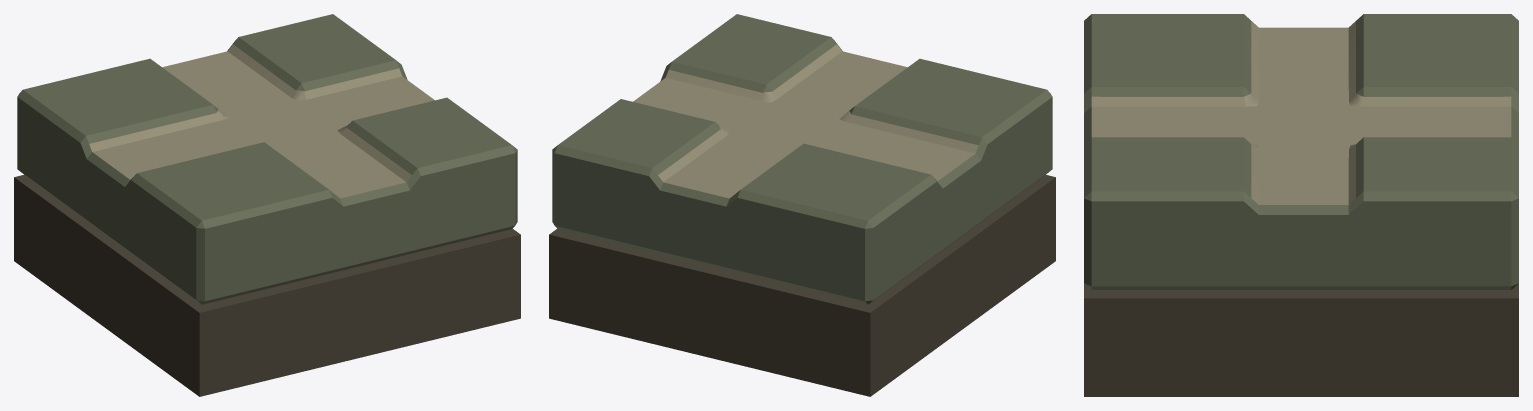
File: Path 2 detialed.fbx
The picture shows the model from 3 angles, left to right: view 1: azimuth 30°, elevation 25°; view 2: azimuth 150°, elevation 25°; view 3: azimuth 270°, elevation 25°; orthographic projection. The views are drawn at different scales.
Visible parts, largest first — view 1: polySurface3798; view 2: polySurface3798; view 3: polySurface3798.
Part boxes in pixels (x1,y1,x2,y2): polySurface3798: [14, 14, 520, 396]; polySurface3798: [549, 14, 1055, 396]; polySurface3798: [1084, 14, 1518, 396].
Size of the model in its own units: 56.97 by 29.24 by 56.97.
